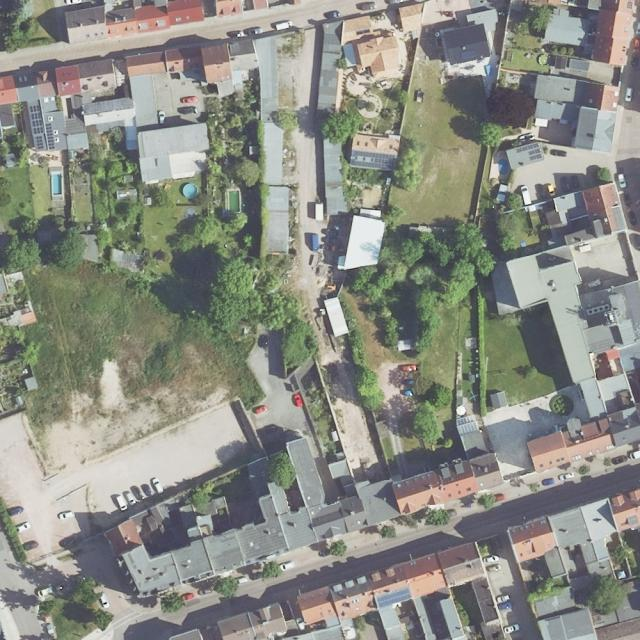PV: (351, 149, 397, 172), (30, 105, 54, 148), (376, 587, 411, 608), (515, 142, 543, 160)
ST: (460, 49, 477, 60)
